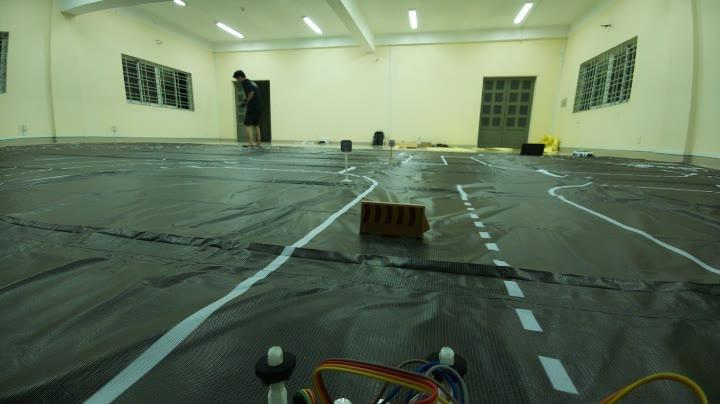roadblock: (351, 194, 437, 248)
